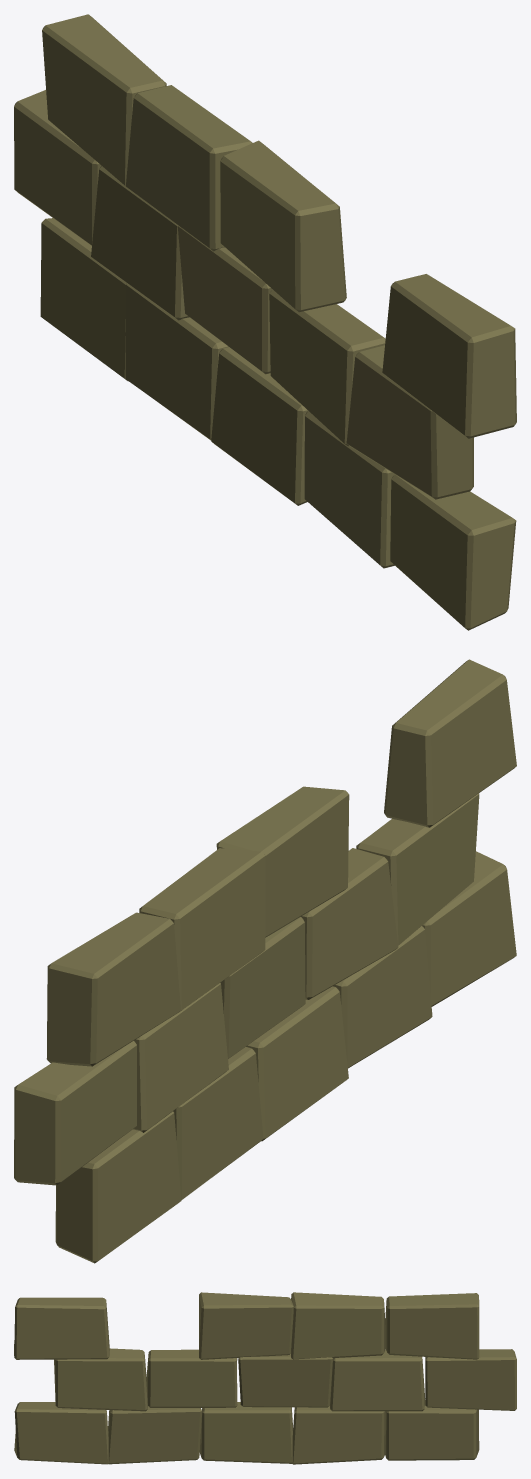
Rendered from BrickWall-Sandstone-Low.fbx.
3 views of the same model, one above another, from view 1: azimuth 30°, elevation 25°; view 2: azimuth 150°, elevation 25°; view 3: azimuth 270°, elevation 25° (orthographic). The views are drawn at different scales.
Visible parts, largest first — view 1: Sanstone Low Wall; view 2: Sanstone Low Wall; view 3: Sanstone Low Wall.
Part boxes in pixels (<box>): Sanstone Low Wall: <box>14,14,516,630</box>; Sanstone Low Wall: <box>14,659,516,1263</box>; Sanstone Low Wall: <box>14,1292,516,1464</box>.
Size of the model in its own units: 57.16 by 306 by 872.
